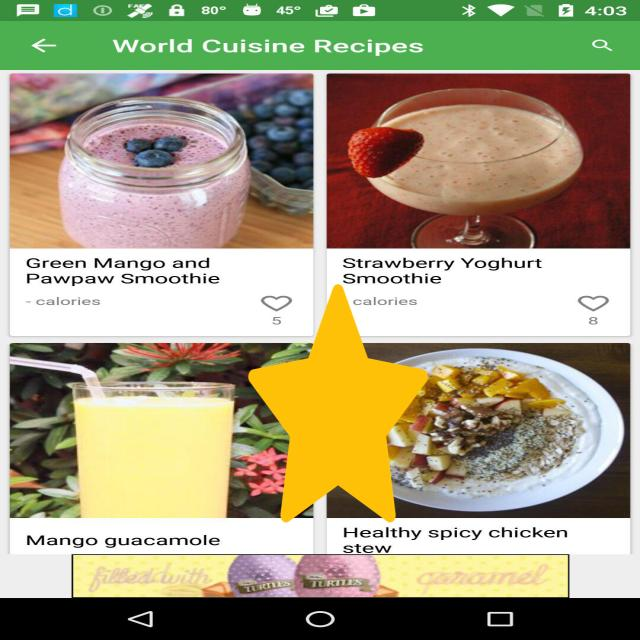forced continuity: (248, 284, 428, 523)
